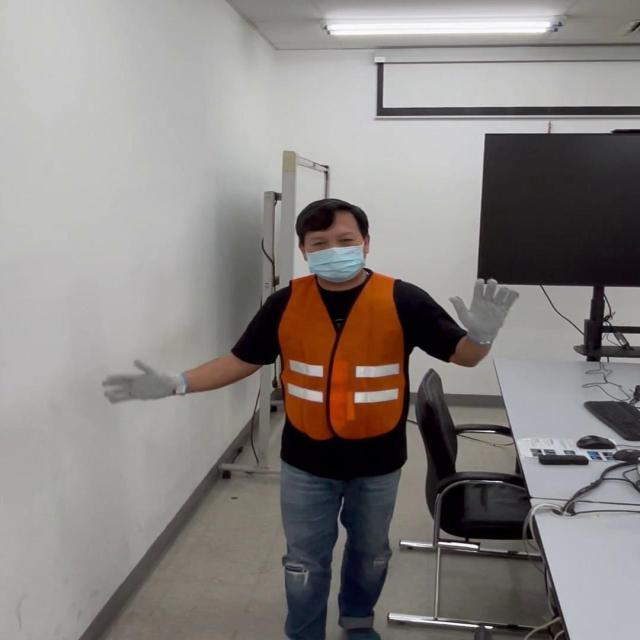gloved_hand: (444, 268, 517, 351), (113, 352, 182, 406)
